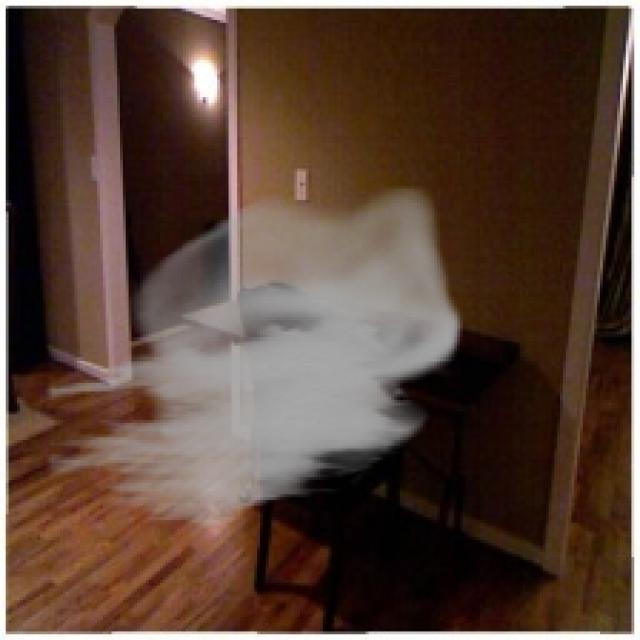Smoke: (46, 186, 463, 532)
